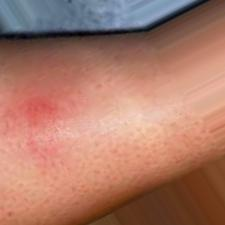Spider: (0, 91, 62, 164)
